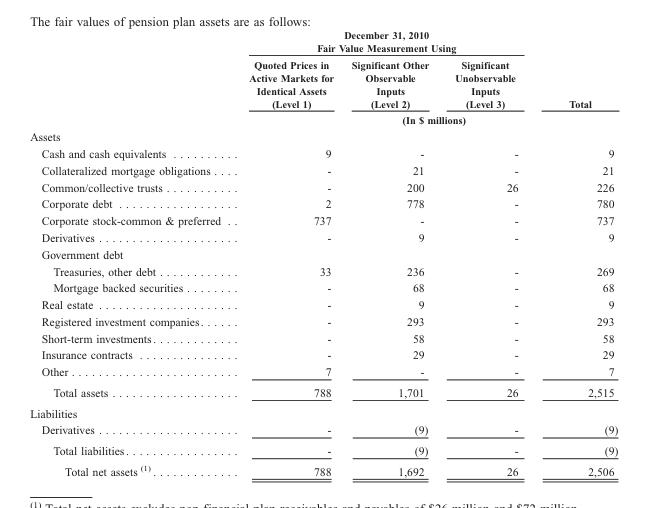table: (29, 28, 617, 477)
table column: (29, 28, 234, 477), (234, 28, 342, 477), (441, 28, 542, 477), (342, 28, 441, 477), (542, 28, 617, 477)
table column header: (29, 28, 617, 127)
table projected row header: (29, 402, 617, 421), (29, 127, 617, 144), (29, 245, 617, 262)
table row: (29, 55, 617, 111), (29, 28, 617, 55), (29, 381, 617, 402), (29, 439, 617, 459), (29, 402, 617, 421), (29, 363, 617, 381), (29, 421, 617, 439), (29, 459, 617, 477), (29, 127, 617, 144), (29, 144, 617, 161), (29, 161, 617, 178), (29, 178, 617, 195), (29, 211, 617, 228), (29, 228, 617, 245), (29, 245, 617, 262), (29, 262, 617, 279), (29, 295, 617, 312), (29, 312, 617, 329), (29, 329, 617, 346), (29, 346, 617, 363), (29, 111, 617, 127), (29, 195, 617, 211), (29, 279, 617, 295)
table spanning cell: (234, 28, 542, 55), (542, 28, 617, 111), (234, 111, 617, 127)
